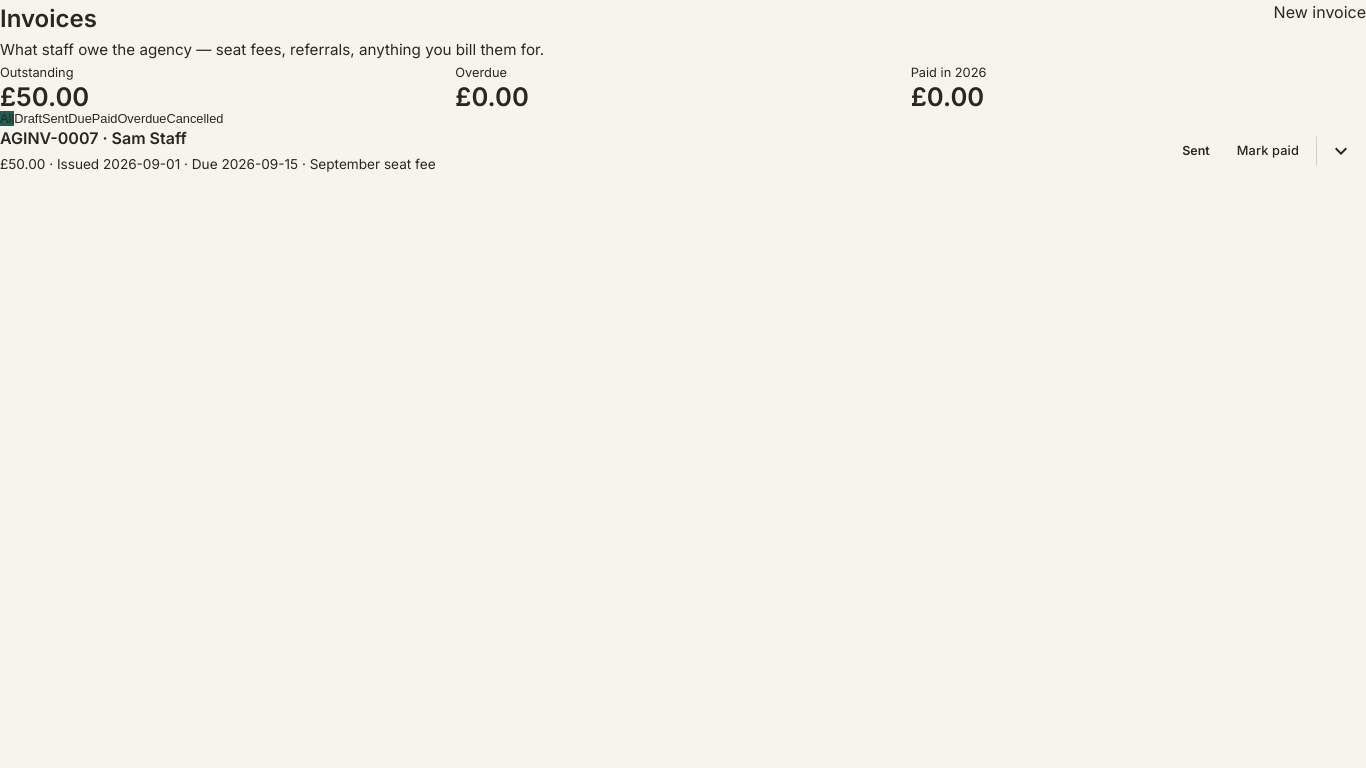
Test case: AgencyInvoicesPage › deleting an invoice requires confirmation — clicking Delete opens a modal, not an immediate delete
Click the button named "Show more options".
click(1341, 151)  # box [1316, 136, 1365, 166]
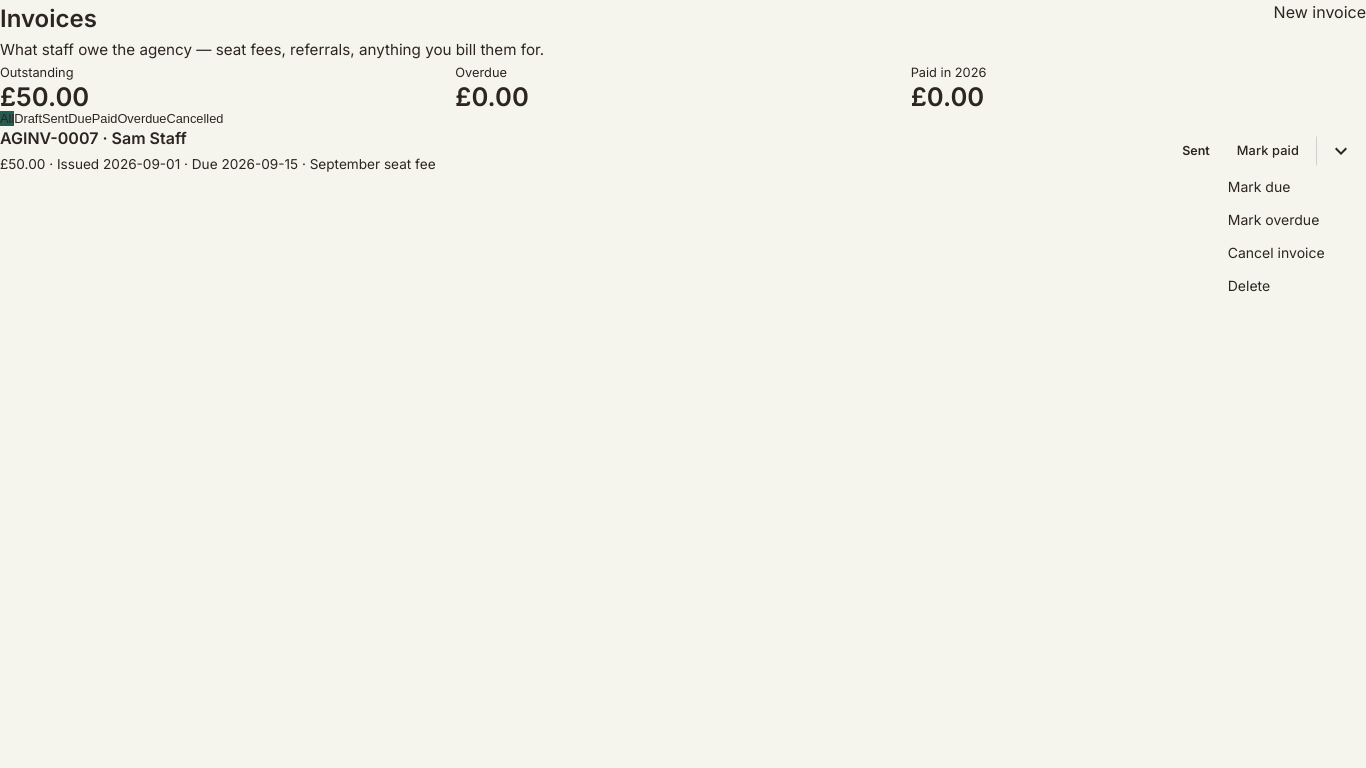
Click the button "Delete".
click(1285, 286)  # box [1212, 269, 1358, 302]
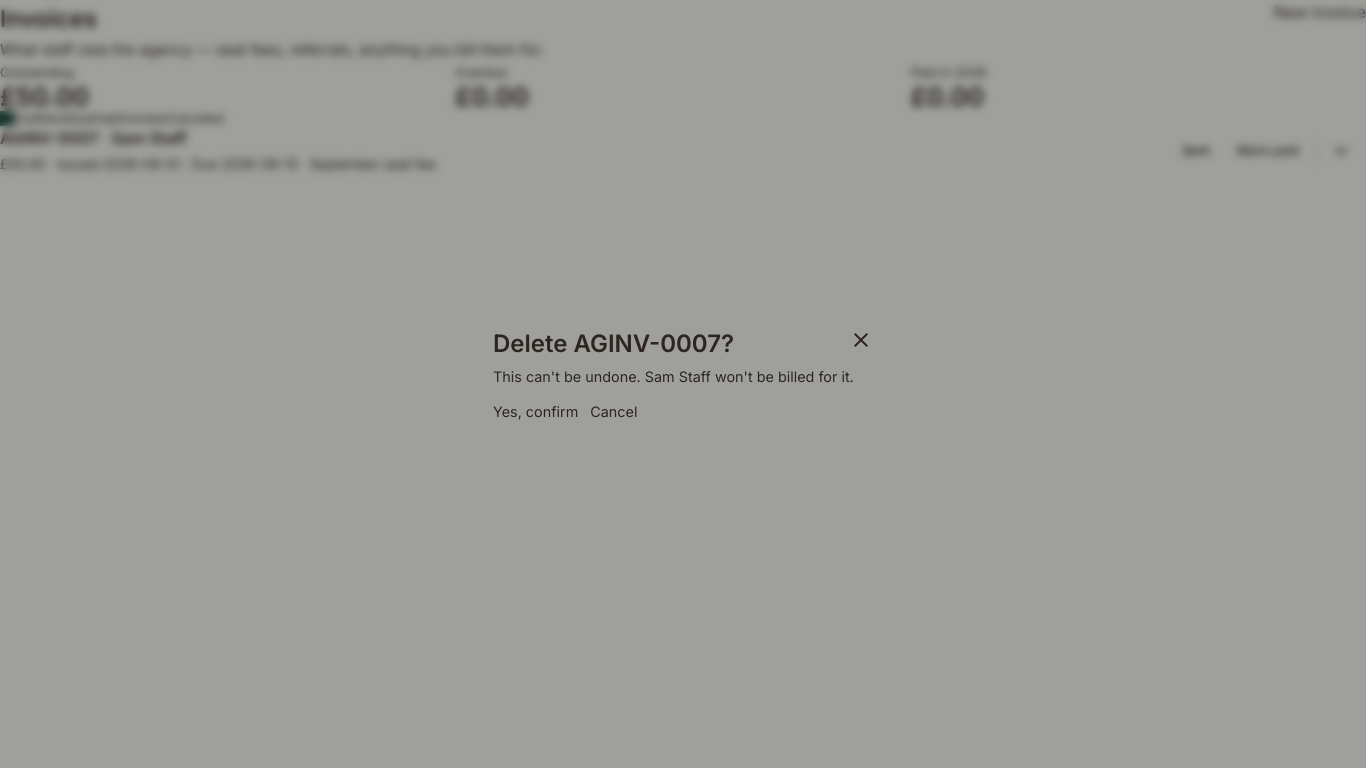
Now the heading "Delete AGINV-0007?" is shown, box [493, 325, 734, 363]
